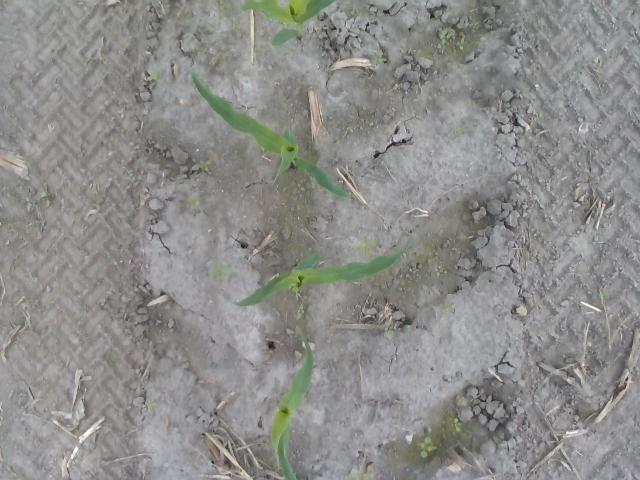Maize: (184, 68, 352, 200), (233, 229, 411, 308), (268, 325, 317, 480), (240, 1, 336, 47)
Weeds: (438, 29, 466, 53), (418, 436, 438, 460), (207, 266, 234, 282), (356, 238, 378, 256), (346, 468, 370, 480), (147, 70, 165, 84), (40, 183, 51, 202), (200, 158, 213, 172), (444, 300, 456, 314), (373, 52, 386, 63), (296, 304, 306, 318), (383, 324, 393, 337), (222, 0, 234, 10), (453, 420, 462, 432), (600, 288, 609, 300), (454, 124, 463, 136)
